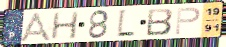8: (87, 9, 110, 40)
A: (17, 11, 54, 42)
B: (146, 7, 175, 37)
H: (49, 10, 80, 41)
L: (115, 8, 137, 39)
P: (174, 7, 202, 36)
